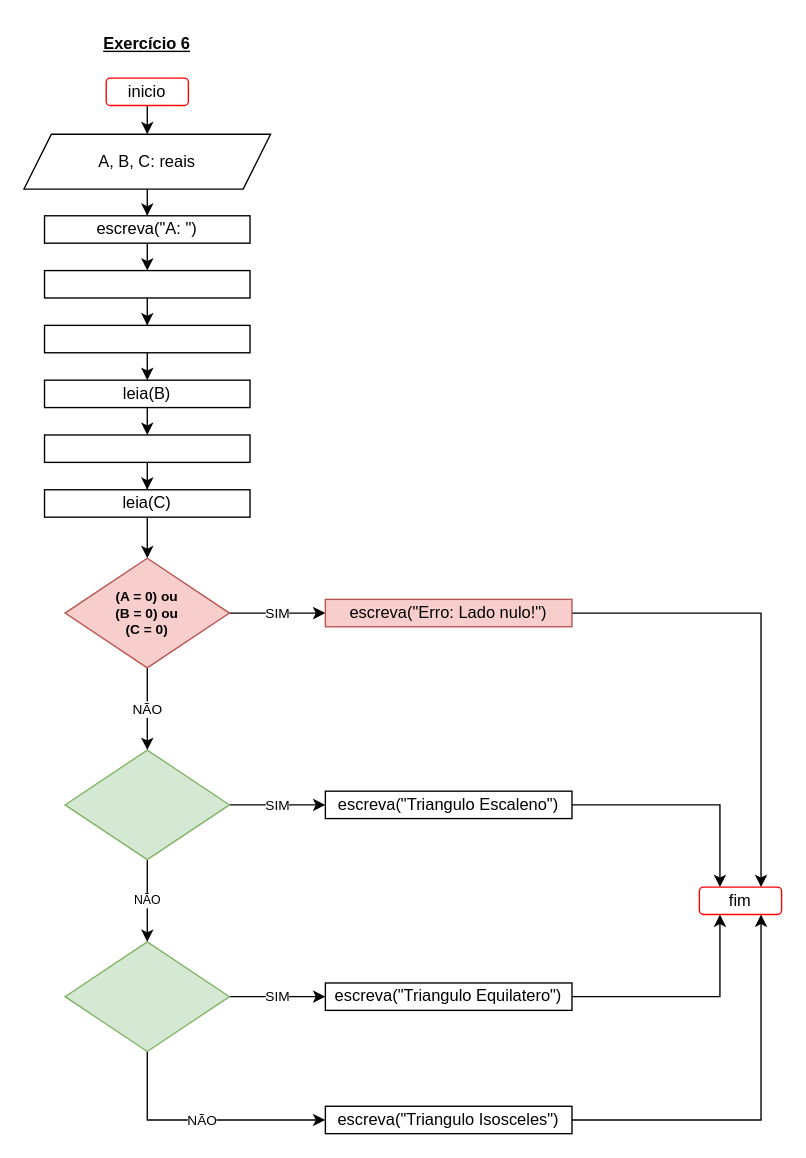
Some shapes in this 806 by 1158 pixel diagram are drawn without their labels. Each missing label, with the box of its shape:
(A <> B) e (B <> C): (64, 749, 229, 860)
(A = B) e (B =C): (64, 941, 229, 1051)
escreva("B: "): (43, 324, 250, 353)
escreva("C: "): (43, 434, 250, 462)
leia(A): (43, 269, 250, 298)
